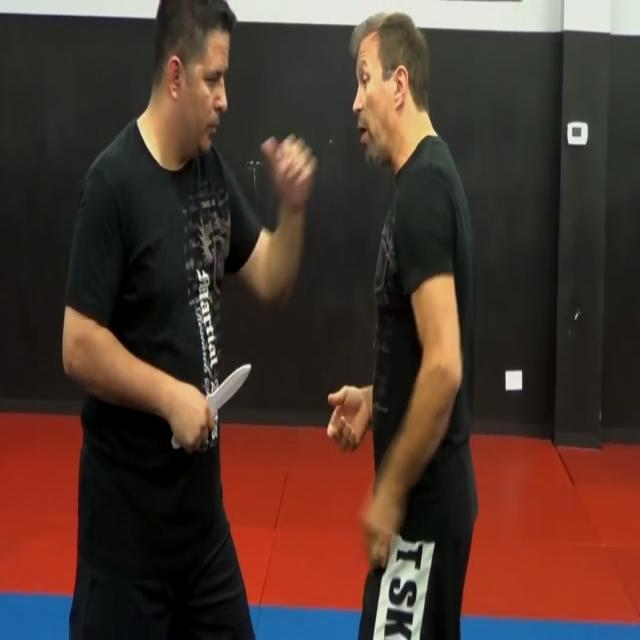knife: (199, 357, 255, 422)
